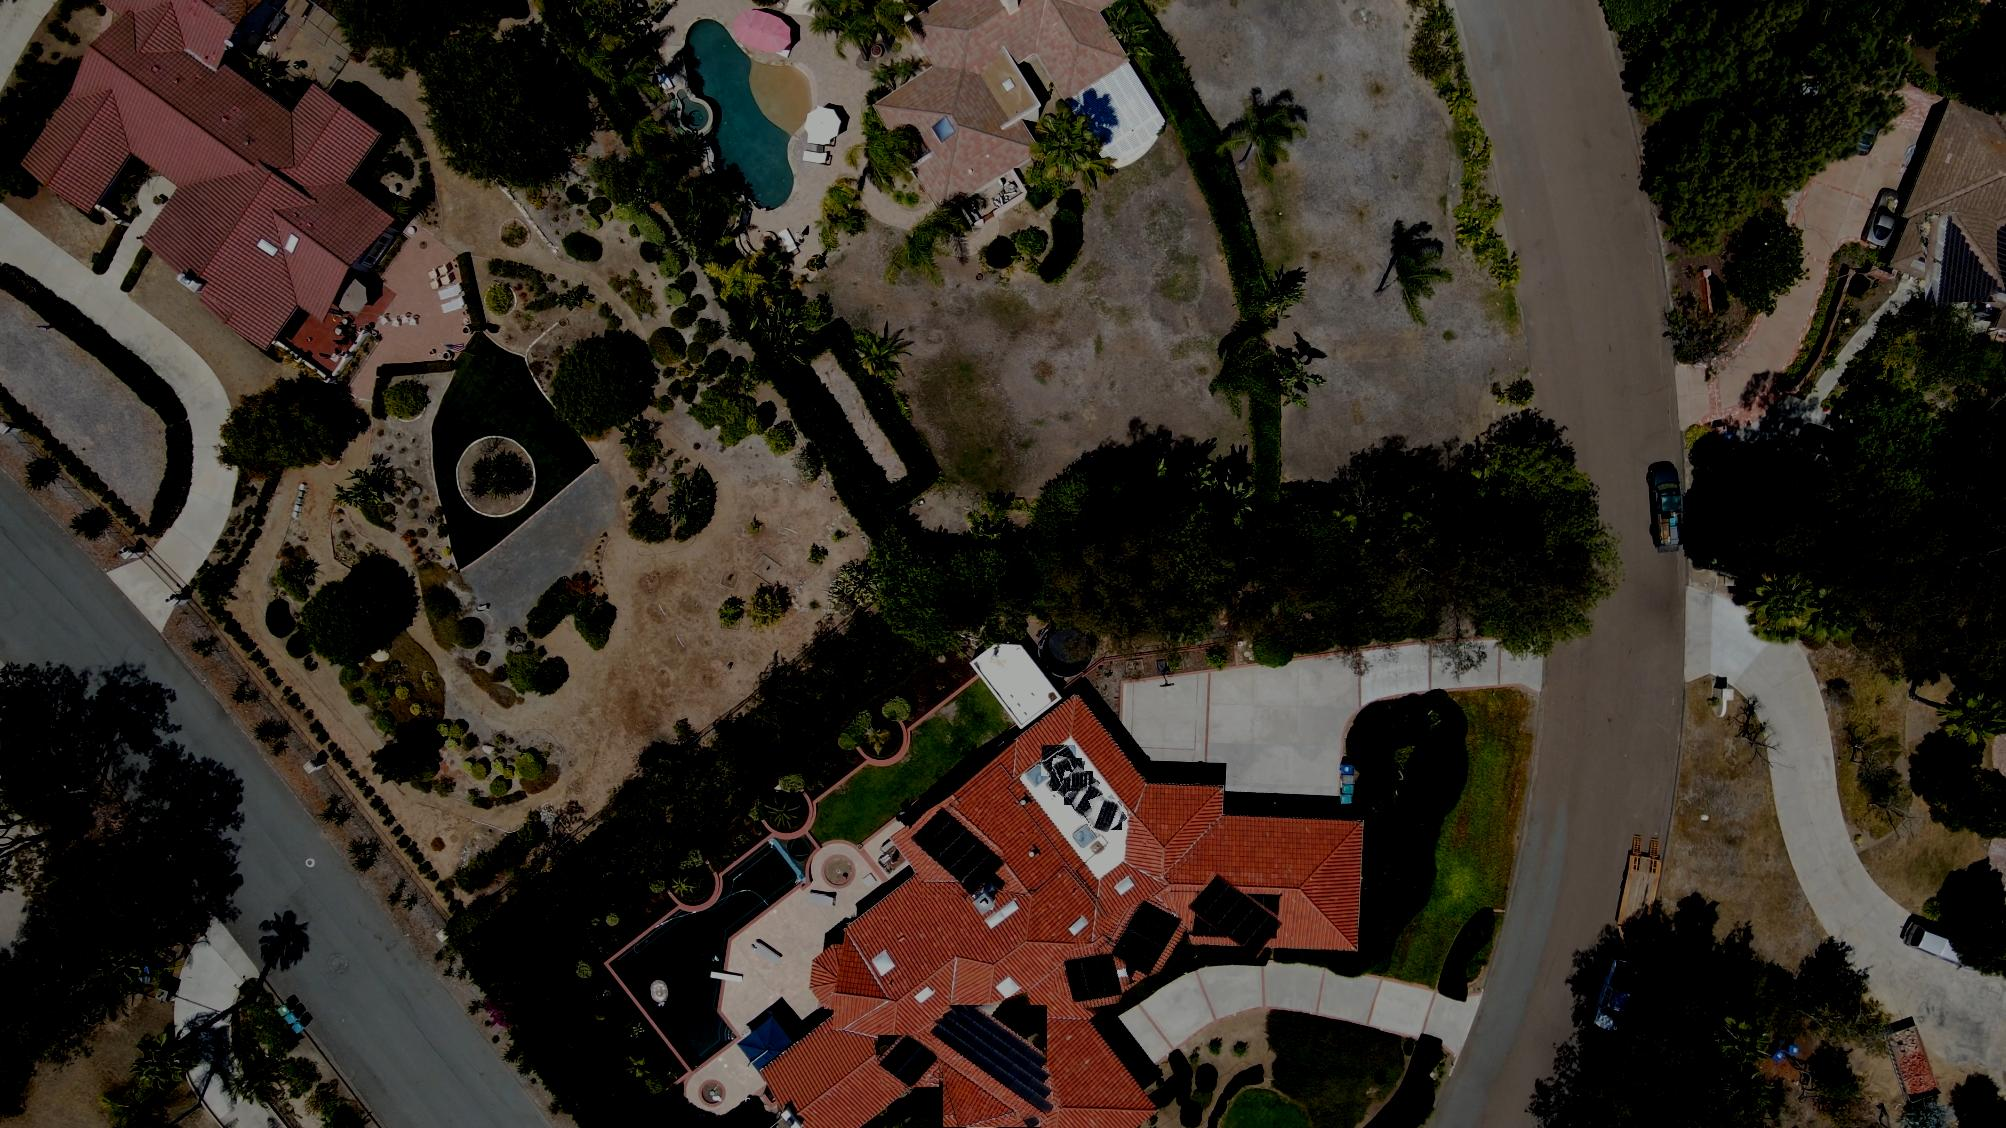solar-panels: (930, 1008, 1053, 1114), (911, 806, 1005, 895), (1188, 873, 1282, 957), (1936, 215, 2005, 308), (1111, 899, 1183, 976), (878, 1034, 939, 1087), (1064, 955, 1123, 1004), (1040, 746, 1075, 776), (1074, 785, 1102, 818), (1055, 758, 1080, 792), (1092, 799, 1117, 832), (1070, 773, 1086, 804)
